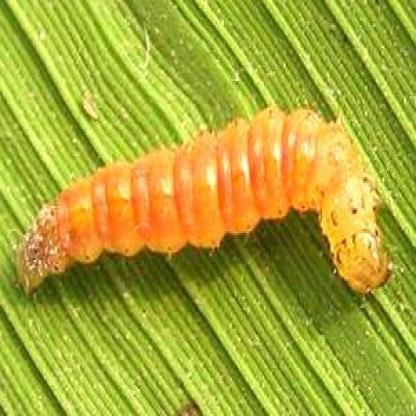leaf-folder: (14, 104, 392, 290)
